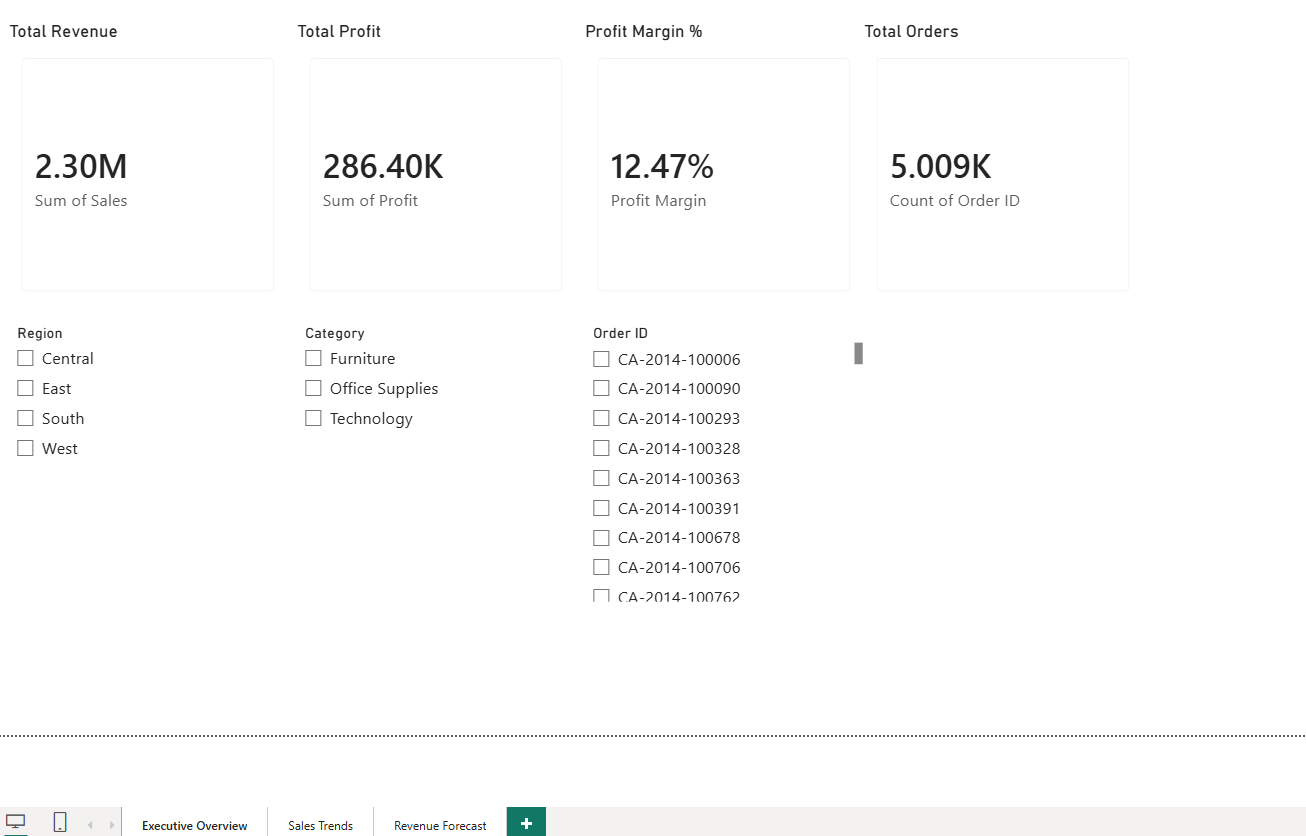

Layout of this report page (visuals, bound fields, positions):
{"tool":"powerbi","page":{"name":"Executive Overview","canvas":[1280,720],"ordinal":0},"visuals":[{"type":"cardVisual","title":"Total Revenue","fields":{"Data":["Sum(Sample - Superstore.Sales)"]},"box":[9.7,25.3,280.1,280.1],"z":0},{"type":"cardVisual","title":"Total Profit","fields":{"Data":["Sum(Sample - Superstore.Profit)"]},"box":[289.8,25.3,280.1,280.1],"z":1000},{"type":"cardVisual","title":"Profit Margin %","fields":{"Data":["Sample - Superstore.Profit Margin"]},"box":[570,25.3,280.1,280.1],"z":2000},{"type":"cardVisual","title":"Total Orders","fields":{"Data":["Count(Sample - Superstore.Order ID)"]},"box":[841.3,25.3,280.1,280.1],"z":3000},{"type":"slicer","fields":{"Values":["Sample - Superstore.Region"]},"box":[10,315,280,280],"z":4000},{"type":"slicer","fields":{"Values":["Sample - Superstore.Category"]},"box":[290,315,280,280],"z":5000},{"type":"slicer","fields":{"Values":["Sample - Superstore.Order ID"]},"box":[570,315,280,280],"z":6000}]}

Visuals, with their boxes on the page's 1280x720 design canvas (x1, y1, x2, y2). These are canvas units, not pixel positions in the 1306x836 screenshot, which may show the page scaled, cropped or inside an application window:
"Total Revenue" cardVisual: Rect(10, 25, 290, 305)
"Total Profit" cardVisual: Rect(290, 25, 570, 305)
"Profit Margin %" cardVisual: Rect(570, 25, 850, 305)
"Total Orders" cardVisual: Rect(841, 25, 1121, 305)
slicer - Sample - Superstore.Region: Rect(10, 315, 290, 595)
slicer - Sample - Superstore.Category: Rect(290, 315, 570, 595)
slicer - Sample - Superstore.Order ID: Rect(570, 315, 850, 595)
